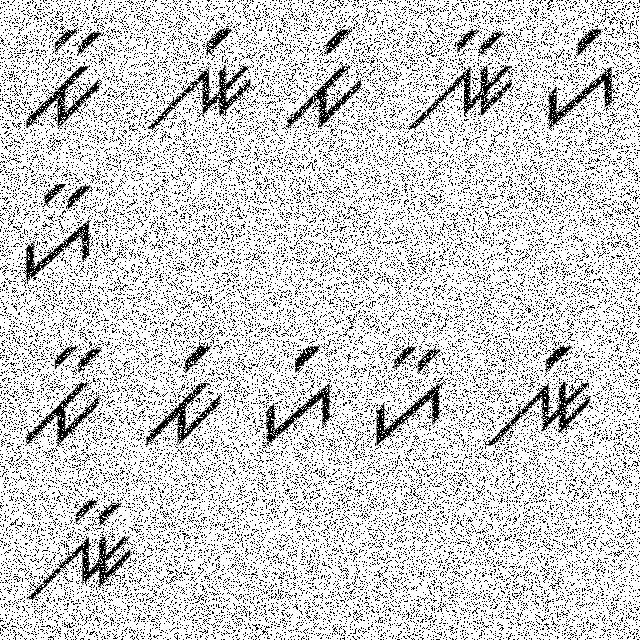han: (12, 183, 104, 284), (369, 336, 444, 454)
hang: (542, 22, 624, 134), (258, 333, 332, 448)
mban: (16, 340, 110, 450), (18, 27, 106, 132)
mbang: (141, 332, 224, 450), (283, 26, 372, 132)
ndan: (397, 23, 516, 132), (21, 494, 138, 604)
ndang: (141, 26, 257, 138), (482, 341, 594, 453)
